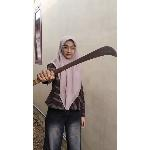Golok: (36, 42, 117, 86)
